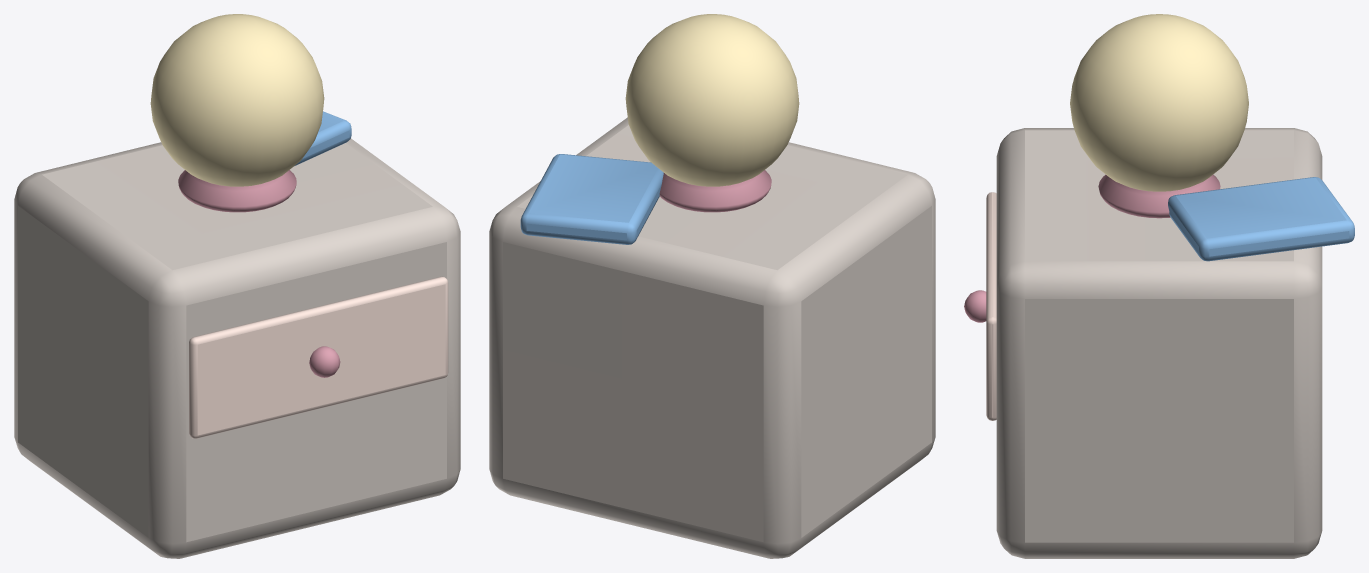
The model's file is nightstand.glb.
The picture shows the model from 3 angles, left to right: view 1: azimuth 30°, elevation 25°; view 2: azimuth 150°, elevation 25°; view 3: azimuth 270°, elevation 25°; orthographic projection. The views are drawn at different scales.
Parts seen in each view (by area): view 1: body, drawer, moon, cd9a0b0, book; view 2: body, moon, book, cd9a0b0; view 3: body, moon, book, cd9a0b0, drawer.
Boxes of the visible parts, box(x1,y1,x2,y2) form: body: box(14, 138, 460, 558); drawer: box(189, 276, 448, 438); moon: box(150, 14, 324, 186); cd9a0b0: box(178, 170, 340, 377); book: box(295, 111, 351, 165); body: box(489, 117, 935, 558); moon: box(625, 14, 799, 186); book: box(520, 154, 663, 244); cd9a0b0: box(659, 170, 771, 212); body: box(996, 128, 1322, 558); moon: box(1070, 14, 1248, 191); book: box(1168, 177, 1354, 261); cd9a0b0: box(964, 174, 1220, 322); drawer: box(986, 192, 996, 420).
Size of the model in its own units: 0.9 by 1.27 by 0.9599.
